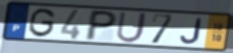4: (59, 8, 82, 41)
7: (151, 13, 174, 45)
G: (27, 7, 58, 39)
J: (179, 17, 204, 45)
P: (83, 9, 120, 42)
U: (115, 11, 149, 44)
